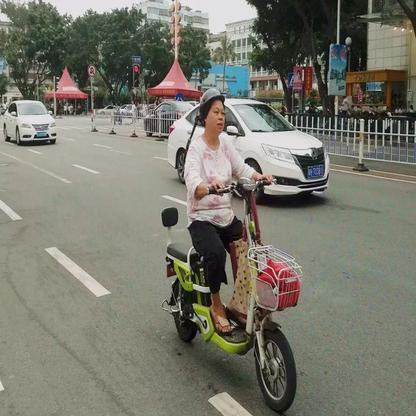target: (161, 87, 306, 410)
